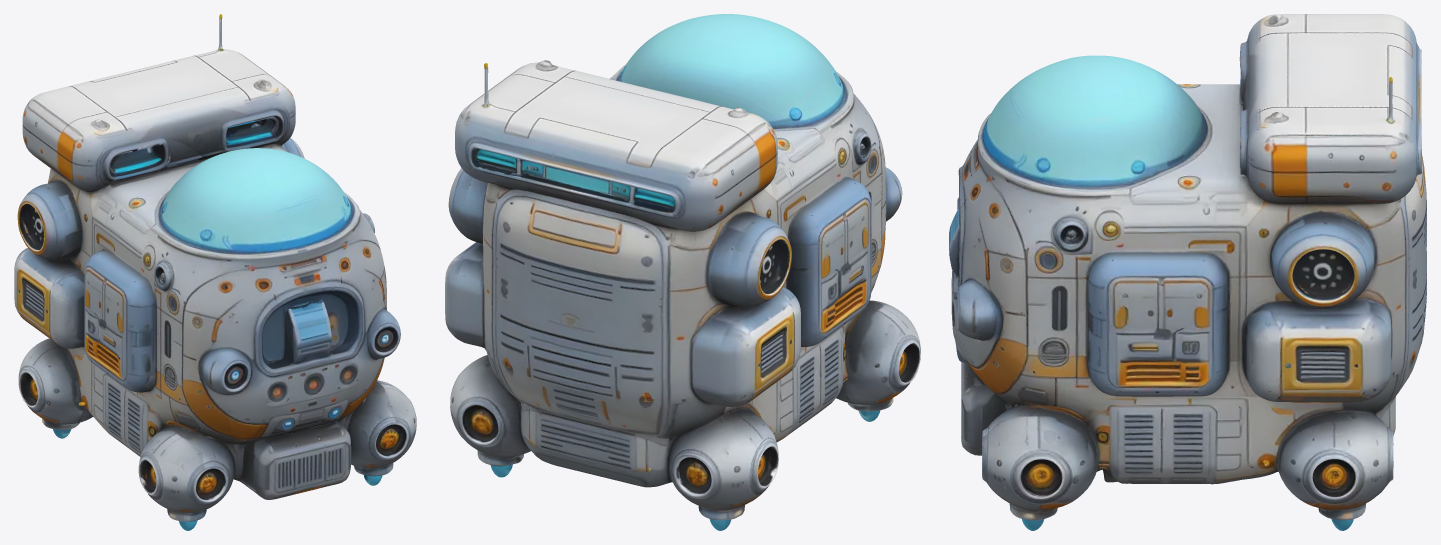
Rendered from spaceship-transformed.glb.
The picture shows the model from 3 angles, left to right: view 1: azimuth 30°, elevation 25°; view 2: azimuth 150°, elevation 25°; view 3: azimuth 270°, elevation 25°; orthographic projection. The views are drawn at different scales.
Visible parts, largest first — view 1: model; view 2: model; view 3: model.
Part boxes in pixels (x1,y1,x2,y2): model: (14, 14, 416, 530); model: (445, 14, 920, 530); model: (949, 14, 1426, 530).
Bounding box in the file's own units: 1.43 × 1.9 × 1.83.
1 material, 1 textured.
